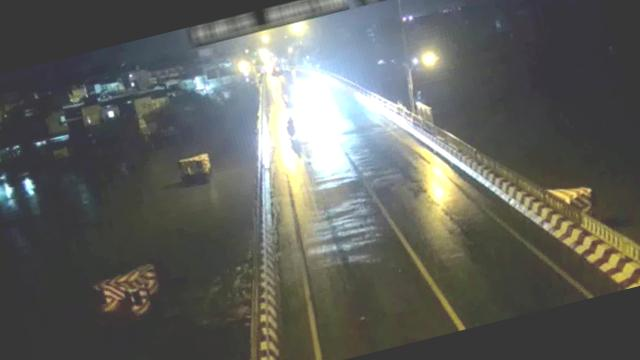Bike: (282, 112, 298, 140)
